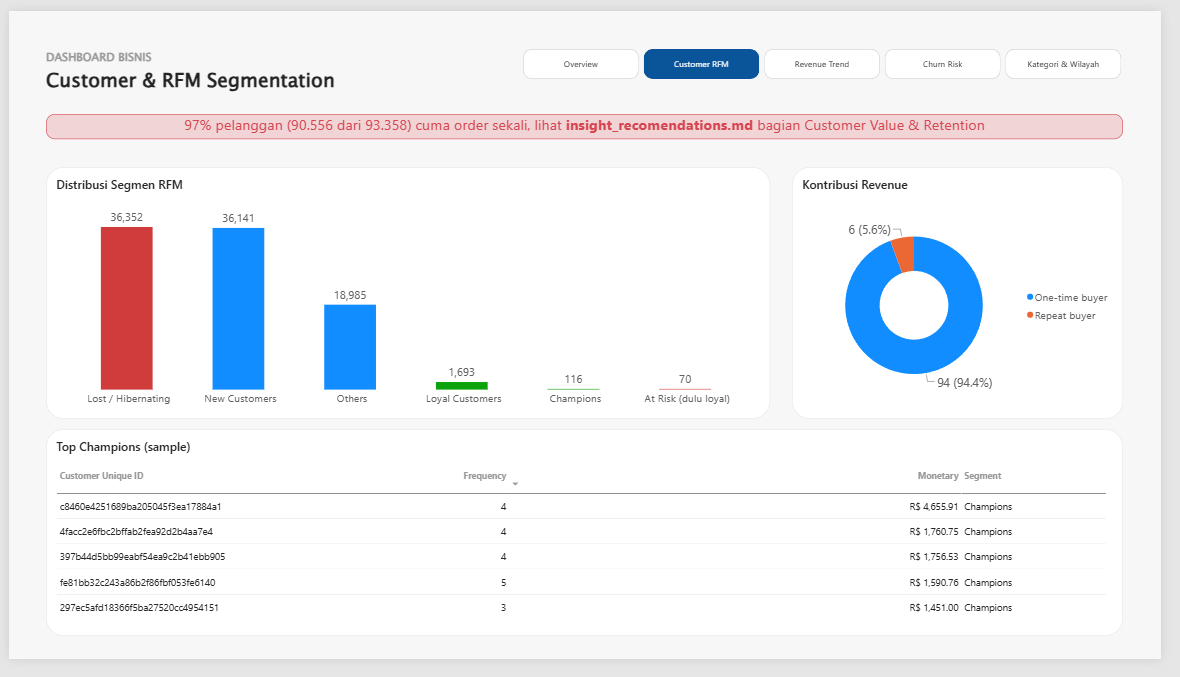

The dashboard page shown, as its layout file describes it:
{"tool":"powerbi","page":{"name":"Customer RFM","canvas":[1920,1080],"ordinal":1},"visuals":[{"type":"clusteredColumnChart","title":"Distribusi Segmen RFM","fields":{"Category":["RFM.rfm_segment"],"Y":["CountNonNull(RFM.customer_unique_id)"]},"box":[61.7,260,1206.7,420],"z":0},{"type":"donutChart","title":"Kontribusi Revenue","fields":{"Category":["BuyerType.customer_type"],"Y":["Sum(BuyerType.pct_revenue)"]},"box":[1305,260,551.7,420],"z":1000},{"type":"tableEx","title":"Top Champions (sample)","fields":{"Values":["RFM.customer_unique_id","Sum(RFM.frequency)","Sum(RFM.monetary)","RFM.rfm_segment"]},"box":[61.7,696.7,1795,345],"z":2000},{"type":"textbox","box":[61.7,171.7,1795,41.7],"z":3000},{"type":"textbox","box":[61.7,63.3,766.7,80],"z":4000},{"type":"pageNavigator","box":[856.4,62.7,1000,50],"z":5000}]}

Visuals, with their boxes in screenshot pixels (x1, y1, x2, y2), scaled from the page's 1920x1080 canvas onto the 1180x677 screenshot:
"Distribusi Segmen RFM" clusteredColumnChart: box(38, 163, 780, 426)
"Kontribusi Revenue" donutChart: box(802, 163, 1141, 426)
"Top Champions (sample)" tableEx: box(38, 437, 1141, 653)
textbox: box(38, 108, 1141, 134)
textbox: box(38, 40, 509, 90)
pageNavigator: box(526, 39, 1141, 71)
